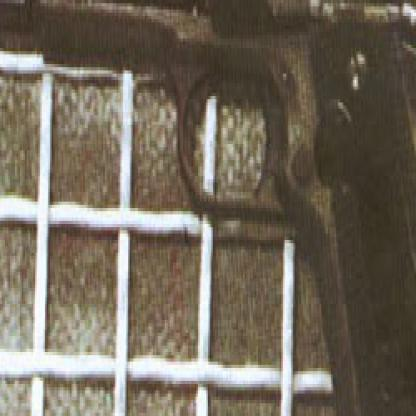gun: (0, 0, 207, 321)
